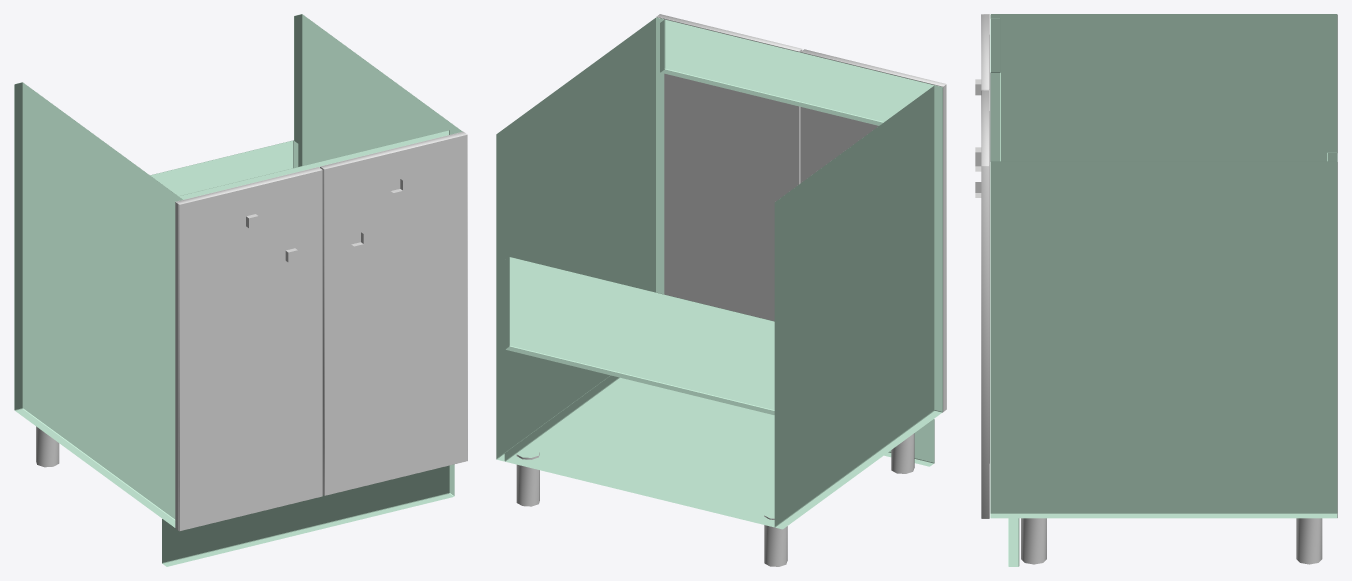
The picture shows the model from 3 angles, left to right: view 1: azimuth 30°, elevation 25°; view 2: azimuth 150°, elevation 25°; view 3: azimuth 270°, elevation 25°; orthographic projection. The views are drawn at different scales.
Visible parts, largest first — view 1: M_1CL_3, M_1CL_1_F.001, M_1CL_1_F, M_1CL_1_F_C, Legs, M_1CL_1_F_C.001; view 2: M_1CL_3, M_1CL_1_F_A.001, M_1CL_1_F_B.001, M_1CL_1_F_A, Legs, M_1CL_1_F_C, M_1CL_1_F, M_1CL_1_F.001; view 3: M_1CL_3, M_1CL_1_F.001, Legs, M_1CL_1_F.
Part boxes in pixels (x1,y1,x2,y2): M_1CL_3: (14,14,462,566); M_1CL_1_F.001: (321,131,467,495); M_1CL_1_F: (176,167,322,531); M_1CL_1_F_C: (175,202,178,530); Legs: (36,426,59,467); M_1CL_1_F_C.001: (320,167,323,494); M_1CL_3: (496,17,942,529); M_1CL_1_F_A.001: (656,16,800,309); M_1CL_1_F_B.001: (728,34,801,321); M_1CL_1_F_A: (800,52,945,182); Legs: (516,433,914,566); M_1CL_1_F_C: (800,85,946,411); M_1CL_1_F: (801,49,946,409); M_1CL_1_F.001: (657,14,802,51); M_1CL_3: (990,14,1337,566); M_1CL_1_F.001: (981,90,989,518); Legs: (1021,518,1322,564); M_1CL_1_F: (981,14,989,90).
Bounding box in the file's own units: 6.99 × 8.65 × 7.03.
